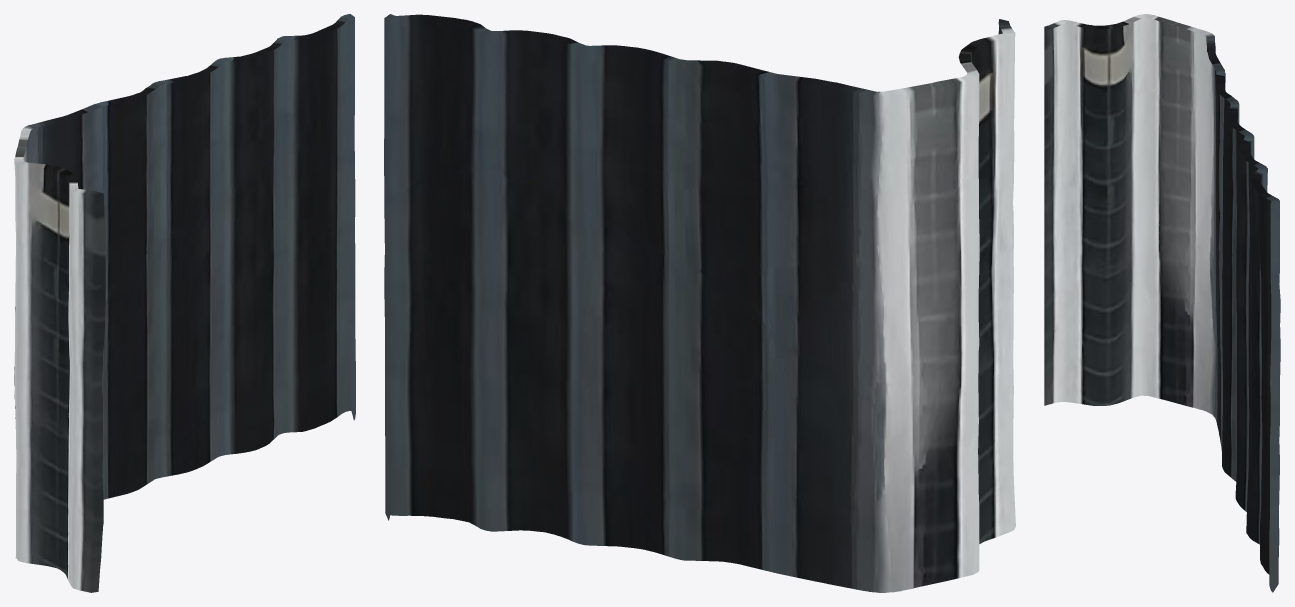
Rendered from z20-167779-405229-h1-yup-uvflip-v3-world.glb.
3 views of the same model, side by side, from view 1: azimuth 30°, elevation 25°; view 2: azimuth 150°, elevation 25°; view 3: azimuth 270°, elevation 25° (orthographic). The views are drawn at different scales.
Bounding box in the file's own units: 25.04 × 23.96 × 13.2.
Materials: 1 (1 with a texture image).
